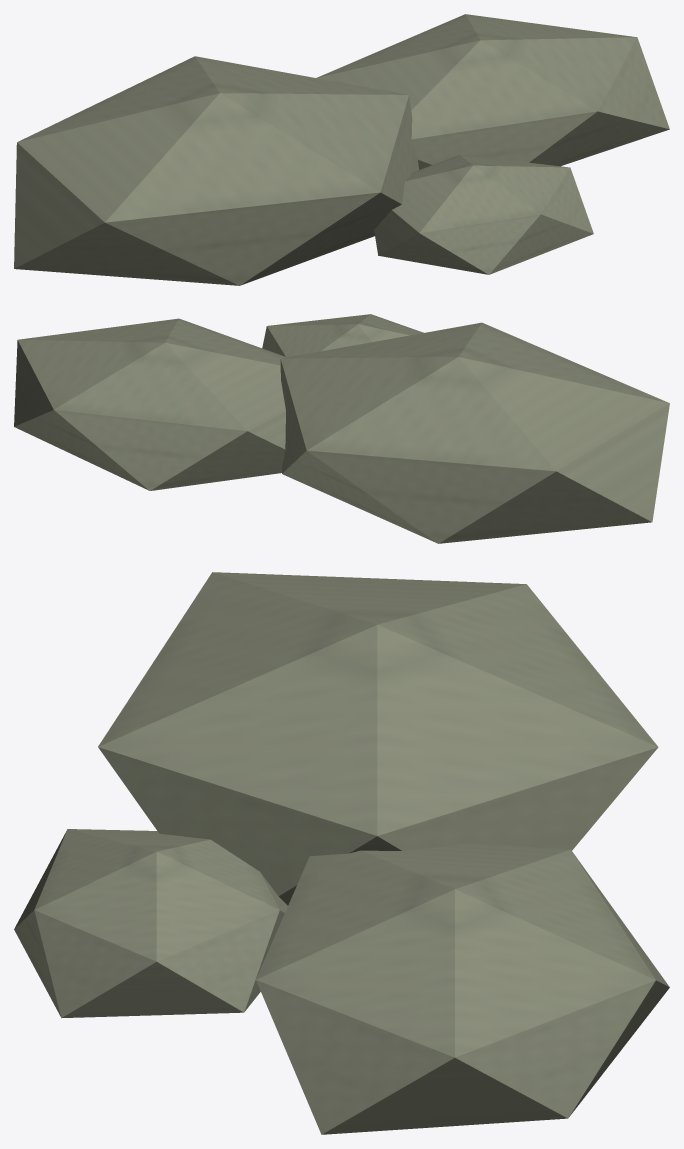
File: shore-rock-lod1.glb
3 views of the same model, one above another, from view 1: azimuth 30°, elevation 25°; view 2: azimuth 150°, elevation 25°; view 3: azimuth 270°, elevation 25° (orthographic). The views are drawn at different scales.
Size of the model in its own units: 0.3787 by 0.075 by 0.2199.
1 material, 1 textured.
